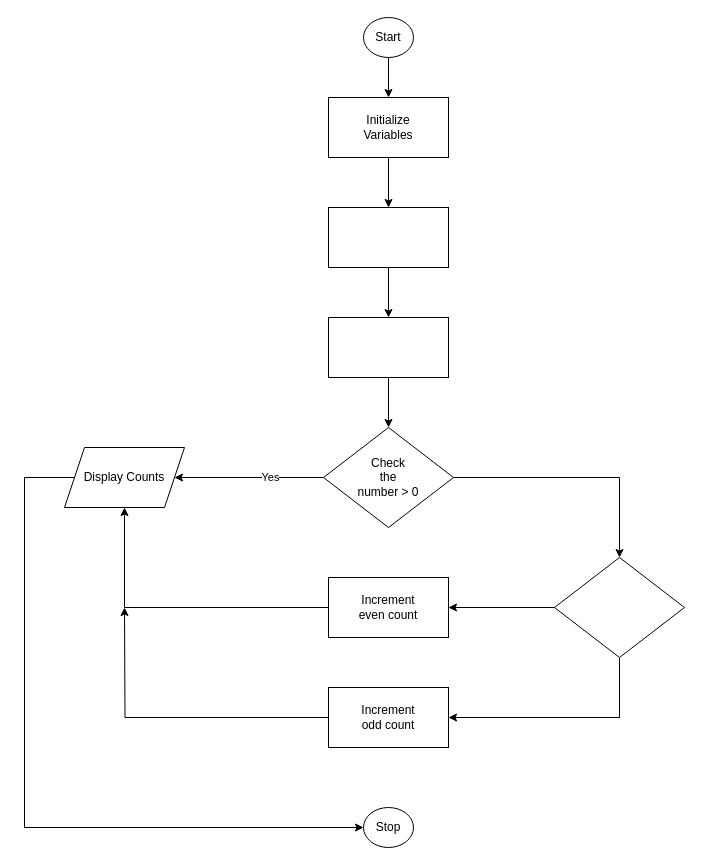
Some shapes in this 702 by 865 pixel diagram are drawn without their labels. Each missing label, with the box of its shape:
Check if even: (554, 556, 684, 658)
Create Array: (328, 206, 448, 268)
Loop through the Array: (328, 316, 448, 378)
